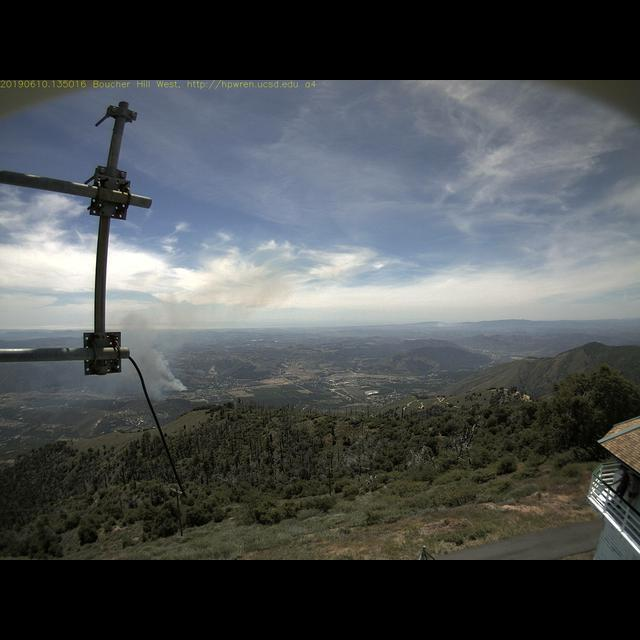Smoke: (123, 312, 187, 398)
